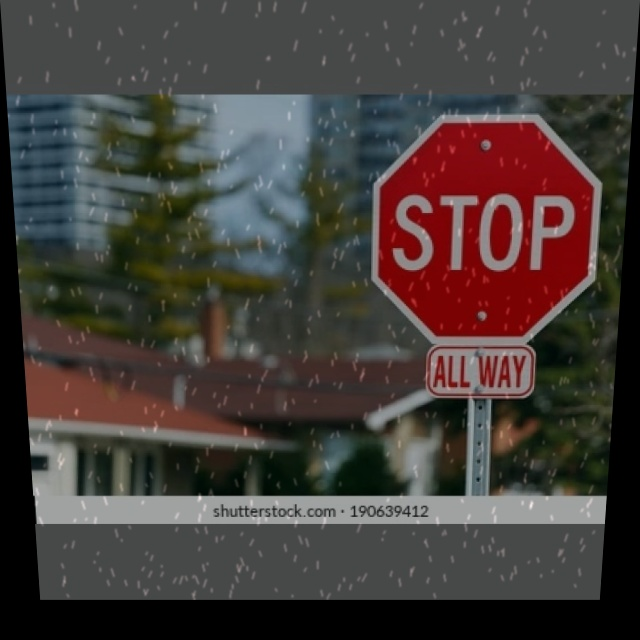Stop: (372, 114, 606, 344)
